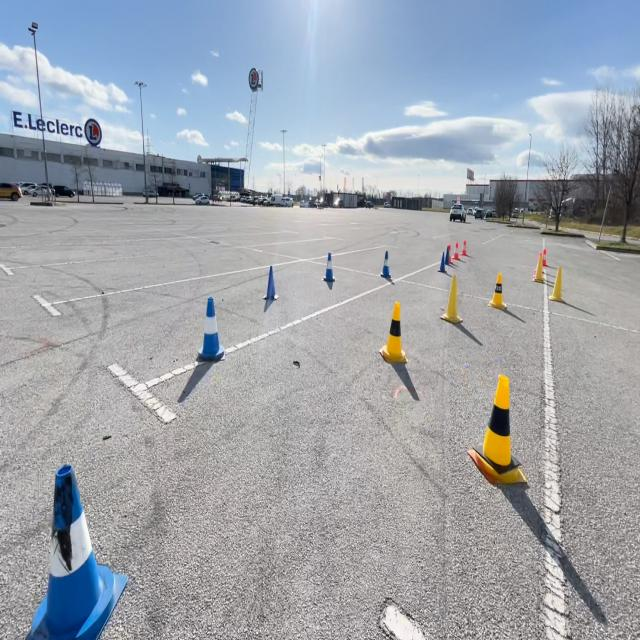blue_cone: (22, 461, 126, 639), (196, 294, 226, 362), (0, 0, 37, 48), (263, 260, 278, 306), (379, 248, 394, 280), (322, 250, 336, 283), (436, 244, 446, 272)
orange_cone: (539, 246, 549, 265), (447, 242, 456, 263), (460, 238, 469, 257)
yellow_cone: (468, 372, 527, 485), (378, 298, 406, 362), (440, 273, 462, 323), (487, 270, 507, 310), (548, 264, 564, 302), (532, 250, 546, 282)
